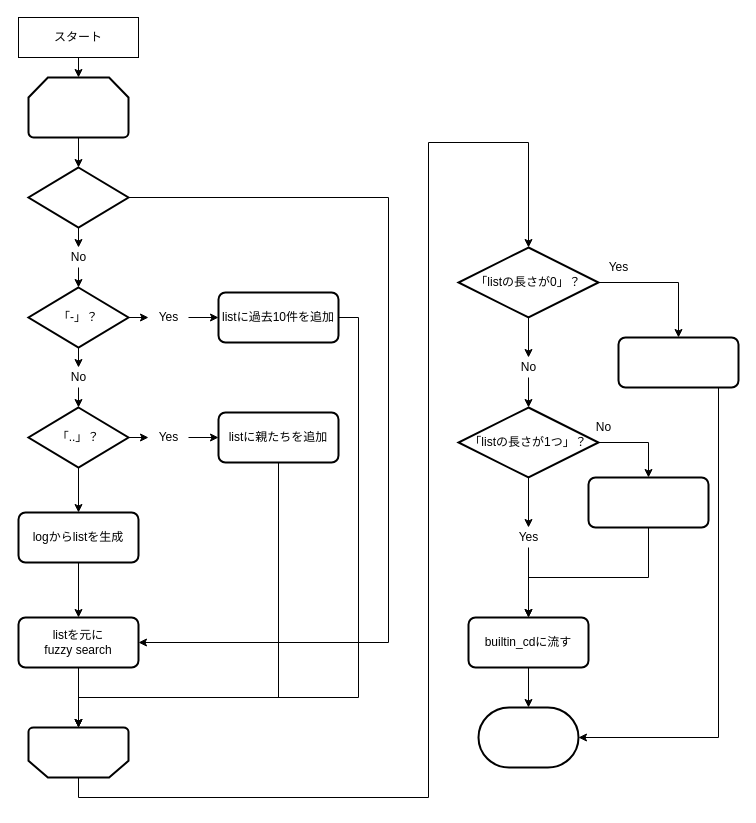
The diagram is 756 pixels wide and 823 high, and some of its shapes have lost their labels. Here are the shapes that lost their labels. From the top down, the centre of each, then its label:
At (78,107): "argsの分繰り返す".
At (78,197): "「listがある」？".
At (678,362): "エラーメッセージ".
At (648,502): "pecoする".
At (528,737): "finish".
